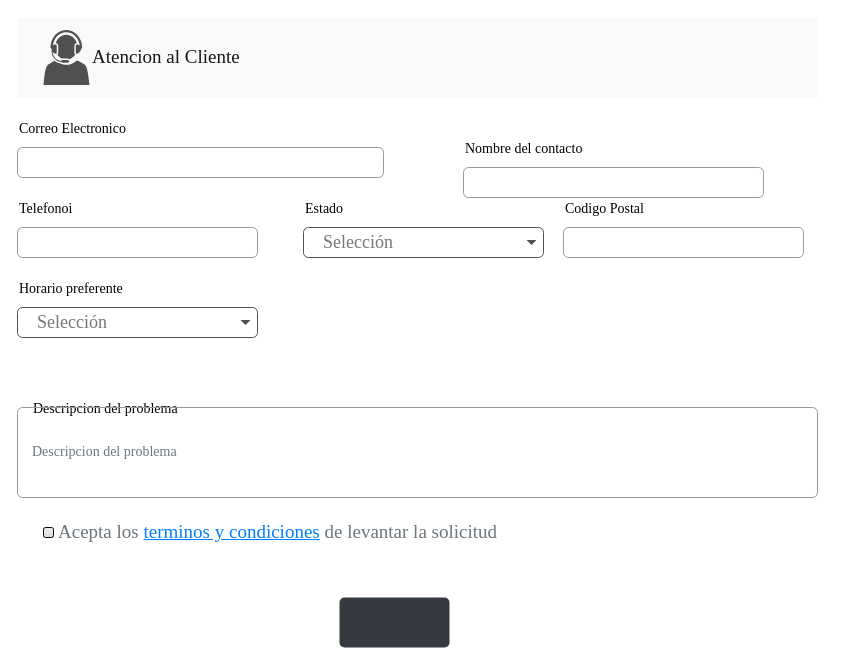
Image size: 841x664. Some labels were removed from this diagram. Each missing label, with the centre of its shape:
"Enviar" goes at (394,622).
"example@algo.com" goes at (200,162).
